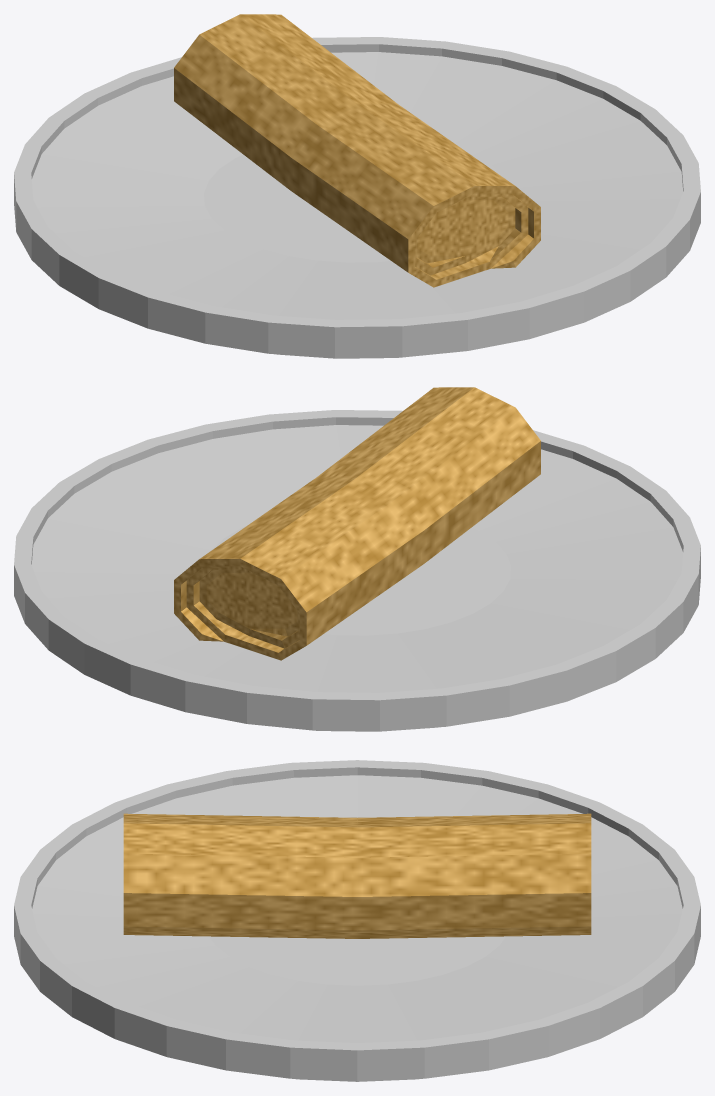
The model's file is Blin_na_tarelke.fbx.
3 renders of one model, top to bottom at view 1: azimuth 30°, elevation 25°; view 2: azimuth 150°, elevation 25°; view 3: azimuth 270°, elevation 25°, orthographic.
Visible parts, largest first — view 1: Cylinder, Cylinder.001; view 2: Cylinder, Cylinder.001; view 3: Cylinder, Cylinder.001.
Part boxes in pixels (x1,y1,x2,y2): Cylinder: (14,37,700,358); Cylinder.001: (174,14,540,287); Cylinder: (14,410,700,731); Cylinder.001: (174,387,540,660); Cylinder: (14,760,700,1081); Cylinder.001: (123,813,591,938).
Size of the model in its own units: 200 by 41.3 by 200.
